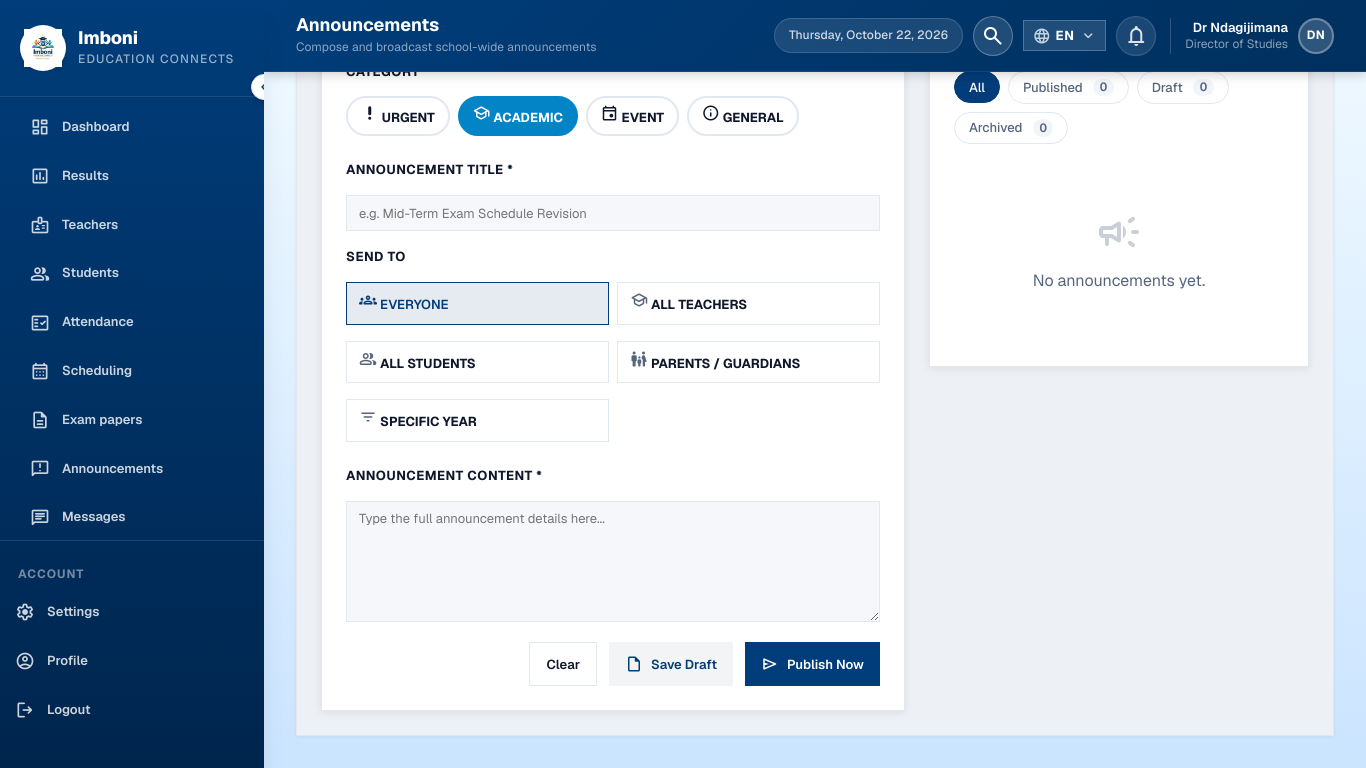
Scenario: DosAnnouncement › validates required fields before publishing
(page scrolled)
expect the text "No announcements yet." is shown: met, box [1033,268,1205,294]
Click the button "Publish Now" at (812, 664), box [745,642,880,686]
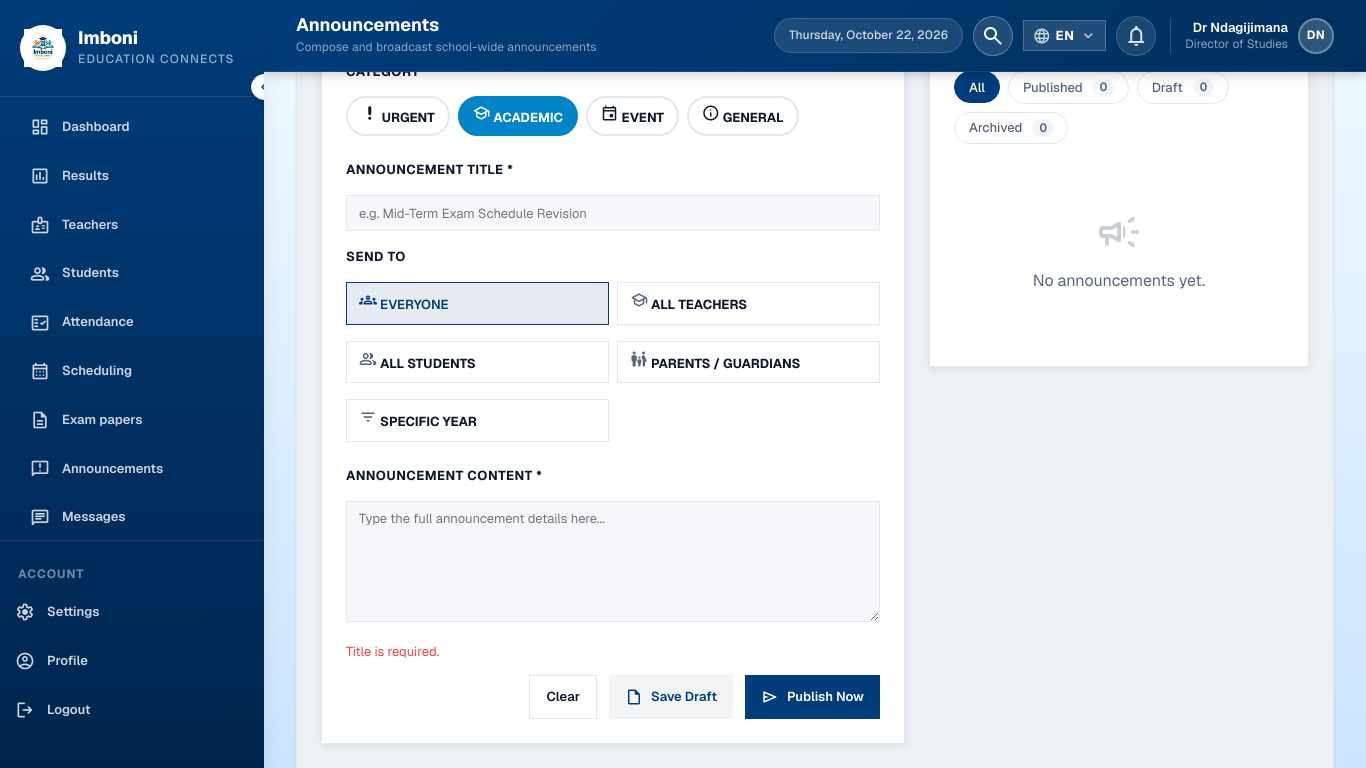
expect the text "Title is required." is shown: met, box [346,643,439,660]
